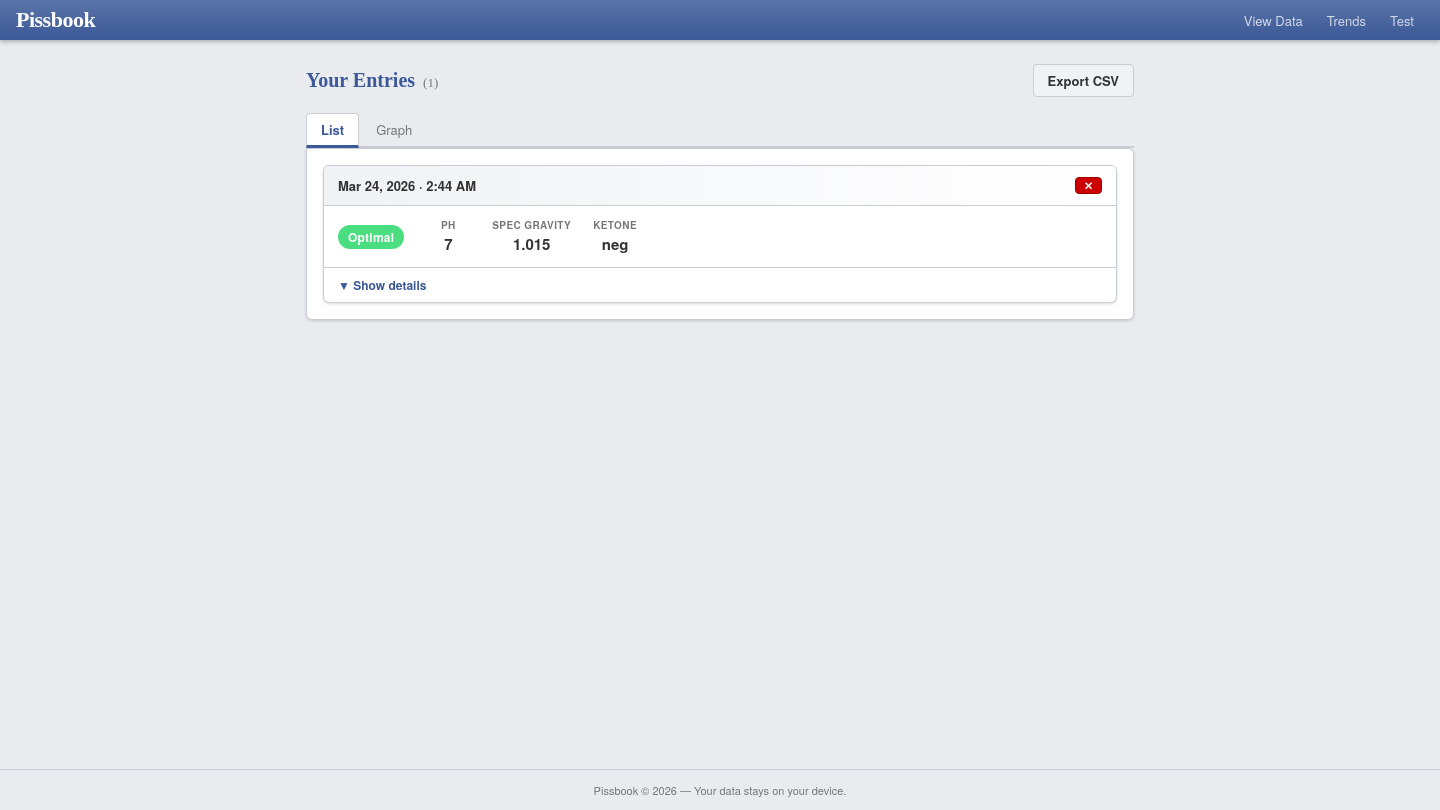
ViewDataPage › has a Graph tab that can be activated
Click the tab "Graph" at point(394, 130), box [361, 113, 427, 146]
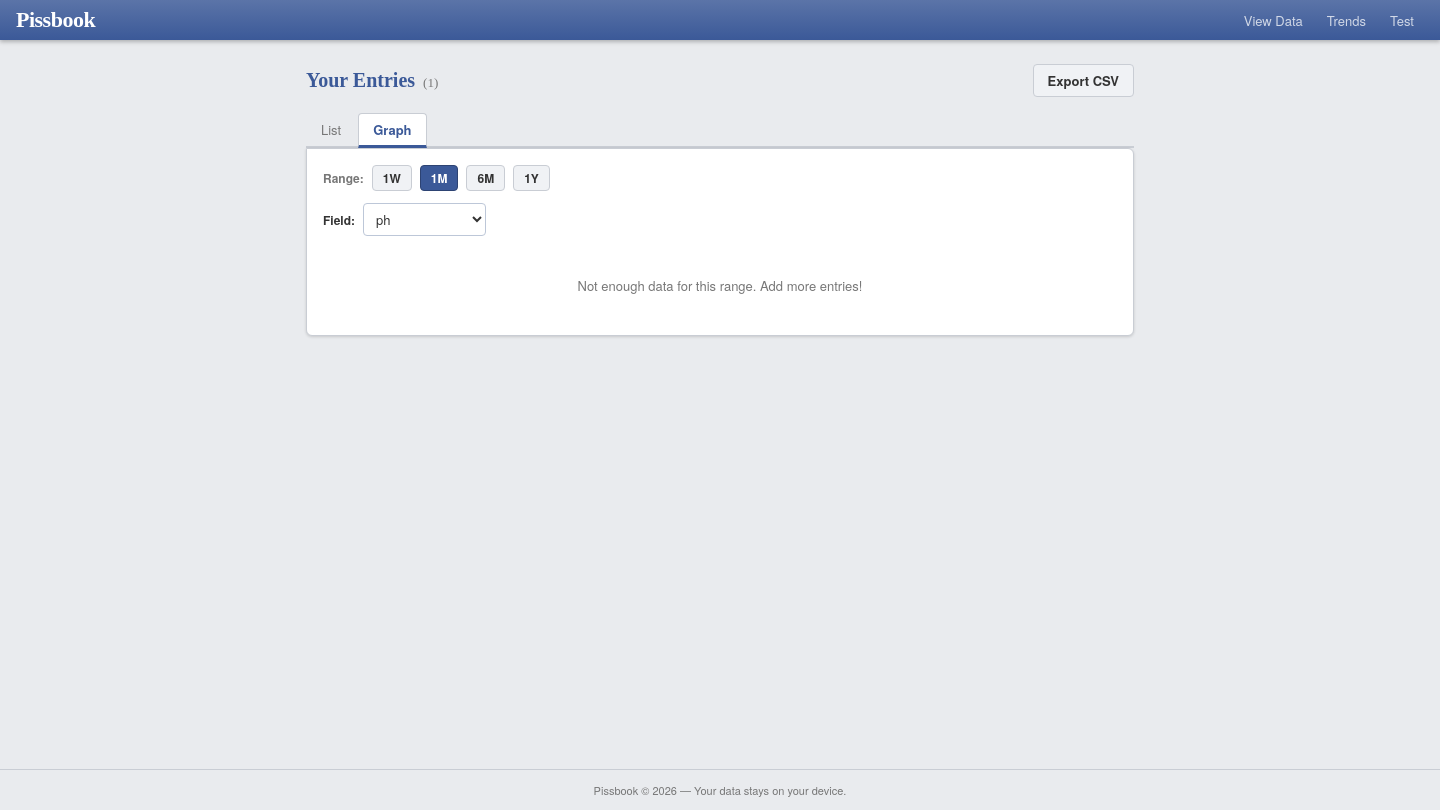
Check: the element with test id "graph-view" is shown, box [323, 165, 862, 295]
